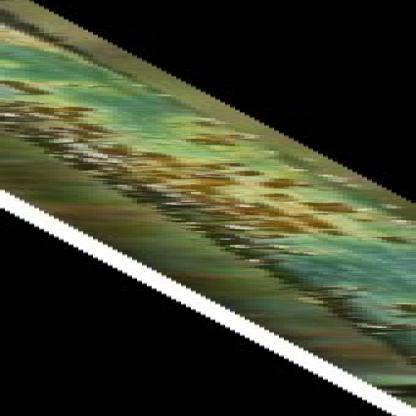wheat Stem Rust: (187, 194, 415, 239), (0, 108, 253, 138), (233, 245, 415, 275), (89, 168, 360, 186), (73, 144, 292, 161), (311, 283, 416, 317)
